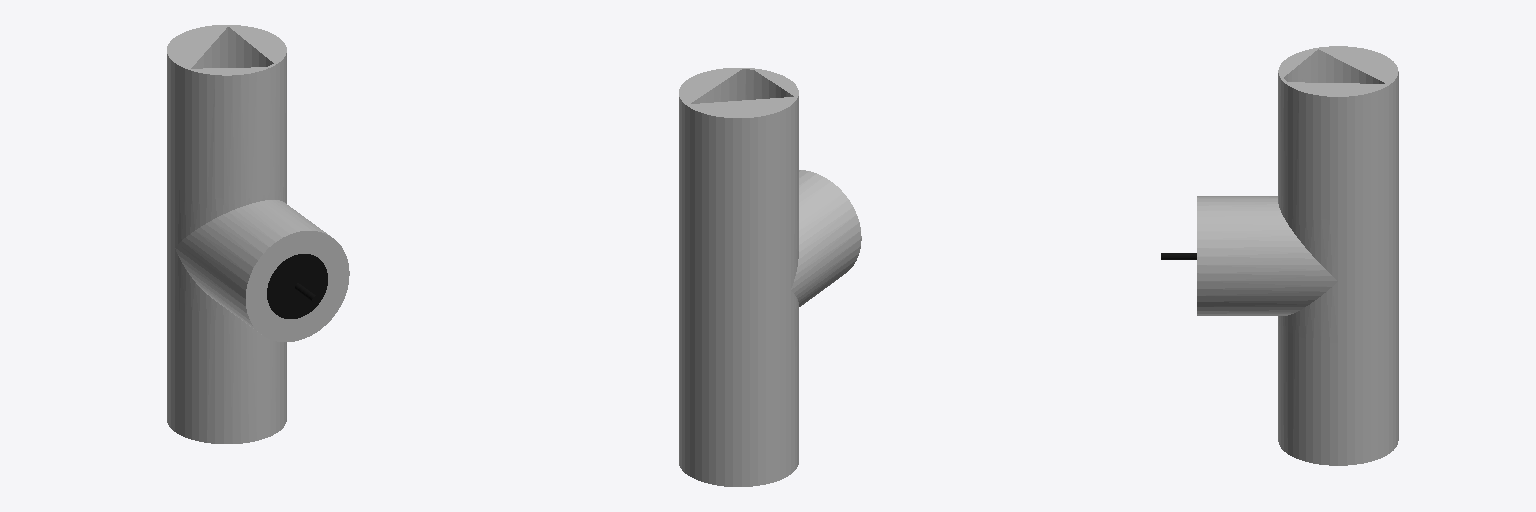
The model's file is SupportPipeMR.obj.
3 renders of one model, left to right at view 1: azimuth 30°, elevation 25°; view 2: azimuth 150°, elevation 25°; view 3: azimuth 270°, elevation 25°, orthographic.
Parts seen in each view (by area): view 1: SupportPipeMR_Support_Pipe_v16.001; view 2: SupportPipeMR_Support_Pipe_v16.001; view 3: SupportPipeMR_Support_Pipe_v16.001.
Boxes of the visible parts, x1,y1,x2,y2 form: SupportPipeMR_Support_Pipe_v16.001: [167, 25, 349, 443]; SupportPipeMR_Support_Pipe_v16.001: [679, 68, 861, 486]; SupportPipeMR_Support_Pipe_v16.001: [1161, 46, 1398, 465].
Bounding box in the file's own units: 0.034 × 0.115 × 0.067.